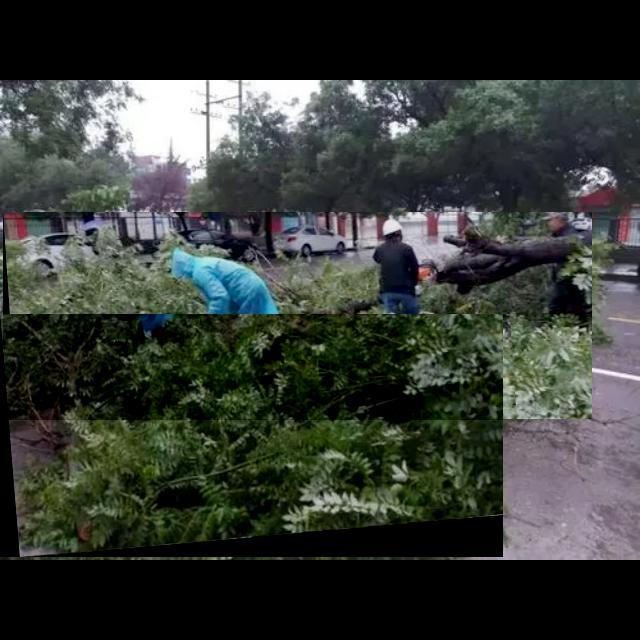fallen_tree: (0, 314, 504, 558), (3, 212, 593, 420)
